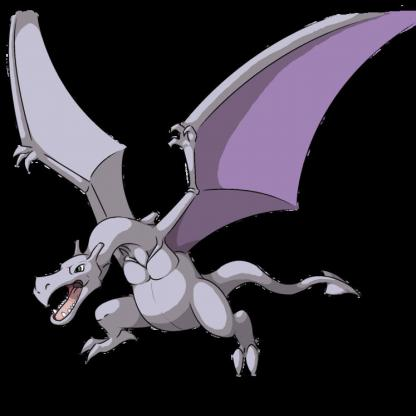Aerodactyl: (7, 10, 393, 383)
